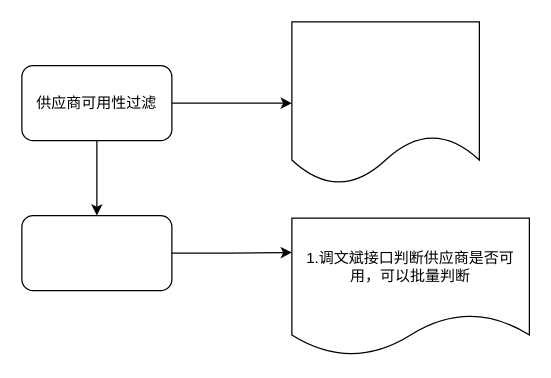
The diagram is 551 pixels wide and 378 high, and some of its shapes have lost their labels. The centre of each missing label's shape, as x and y in pixels:
"1.判断供应商当前是否为在线(2) 2.判断商品是否需要备货，如果需要备货判断商品库存是否充足" belongs at pixel 385 102.
"供应商黑名单判断" belongs at pixel 96 252.
